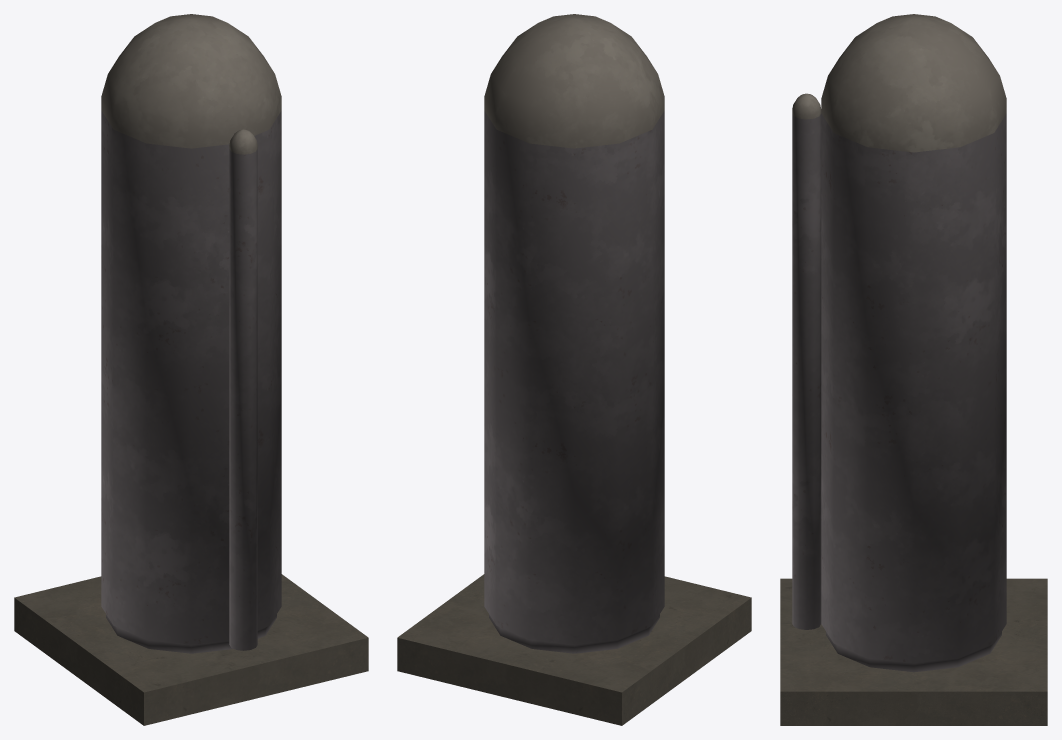
File: Granary_01.fbx
3 renders of one model, left to right at view 1: azimuth 30°, elevation 25°; view 2: azimuth 150°, elevation 25°; view 3: azimuth 270°, elevation 25°, orthographic. The views are drawn at different scales.
Visible parts, largest first — view 1: Circle, Plane, Plane.025; view 2: Circle, Plane, Plane.025; view 3: Circle, Plane, Plane.025.
Boxes of the visible parts, x1,y1,x2,y2 form: Circle: [101, 14, 281, 653]; Plane: [14, 574, 368, 725]; Plane.025: [35, 612, 331, 716]; Circle: [484, 14, 664, 653]; Plane: [397, 574, 751, 725]; Plane.025: [434, 581, 730, 716]; Circle: [792, 14, 1006, 672]; Plane: [780, 578, 1047, 725]; Plane.025: [813, 580, 1007, 725].
Size of the model in its own units: 1357 by 3640 by 1357.
